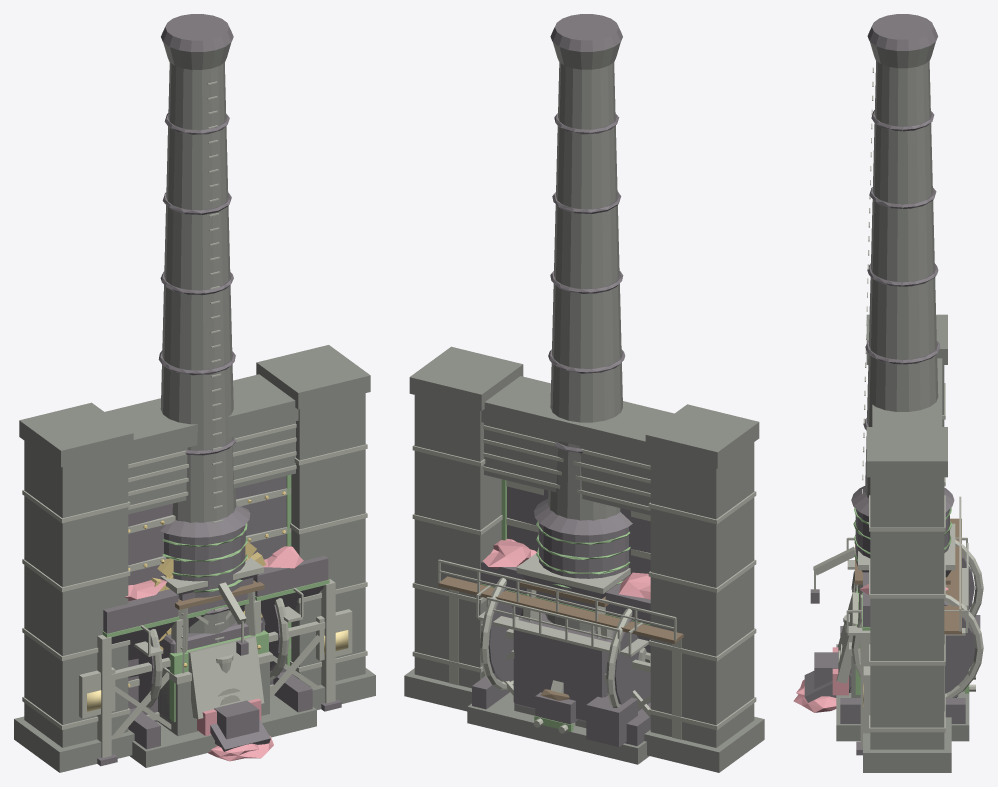
The model's file is InfernalF21Kit.fbx.
3 renders of one model, left to right at view 1: azimuth 30°, elevation 25°; view 2: azimuth 150°, elevation 25°; view 3: azimuth 270°, elevation 25°, orthographic. The views are drawn at different scales.
Visible parts, largest first — view 1: FurnaceGateDoors__STONE, FlueStack__STONE, FurnaceGateDoors__TRIM, OreCrusherJaw__TRIM, CoalHopper__METAL, CoalHopper__TRIM, FlueStack__METAL, OreCrusherJaw__METAL, WaterTower__METAL, FurnaceGateDoors__METAL, OreCrusherJaw__STONE, WaterTower__TRIM (+8 smaller); view 2: FurnaceGateDoors__STONE, FlueStack__STONE, OreCrusherJaw__METAL, FurnaceGateDoors__TRIM, OreCrusherJaw__TRIM, WaterTower__METAL, CoalHopper__TRIM, FlueStack__METAL, OreCrusherJaw__STONE, FurnaceGateDoors__METAL, CoalHopper__WOOD, CoalHopper__METAL (+3 smaller); view 3: FurnaceGateDoors__STONE, FlueStack__STONE, FlueStack__METAL, OreCrusherJaw__TRIM, OreCrusherJaw__METAL, FurnaceGateDoors__TRIM, WaterTower__METAL, CoalHopper__TRIM, OreCrusherJaw__STONE, CoalHopper__WOOD, OreCrusherJaw__ALT, WaterTower__TRIM (+2 smaller).
Boxes of the visible parts, bbox=[...] form: FurnaceGateDoors__STONE: bbox=[14, 345, 375, 772]; FlueStack__STONE: bbox=[158, 43, 269, 736]; FurnaceGateDoors__TRIM: bbox=[22, 423, 367, 729]; OreCrusherJaw__TRIM: bbox=[134, 557, 303, 719]; CoalHopper__METAL: bbox=[97, 556, 341, 766]; CoalHopper__TRIM: bbox=[97, 579, 335, 757]; FlueStack__METAL: bbox=[158, 14, 259, 745]; OreCrusherJaw__METAL: bbox=[128, 574, 312, 751]; WaterTower__METAL: bbox=[160, 505, 250, 655]; FurnaceGateDoors__METAL: bbox=[128, 476, 286, 722]; OreCrusherJaw__STONE: bbox=[130, 695, 316, 767]; WaterTower__TRIM: bbox=[178, 582, 255, 735]; FurnaceGateDoors__STONE: bbox=[404, 346, 764, 772]; FlueStack__STONE: bbox=[514, 42, 622, 727]; OreCrusherJaw__METAL: bbox=[472, 574, 650, 746]; FurnaceGateDoors__TRIM: bbox=[412, 425, 756, 730]; OreCrusherJaw__TRIM: bbox=[476, 553, 650, 707]; WaterTower__METAL: bbox=[534, 499, 632, 592]; CoalHopper__TRIM: bbox=[438, 559, 681, 739]; FlueStack__METAL: bbox=[548, 14, 625, 453]; OreCrusherJaw__STONE: bbox=[467, 692, 649, 764]; FurnaceGateDoors__METAL: bbox=[507, 486, 650, 575]; CoalHopper__WOOD: bbox=[438, 576, 683, 643]; CoalHopper__METAL: bbox=[481, 561, 650, 652]; FurnaceGateDoors__STONE: bbox=[863, 314, 951, 772]; FlueStack__STONE: bbox=[851, 42, 954, 697]; FlueStack__METAL: bbox=[814, 14, 940, 697]; OreCrusherJaw__TRIM: bbox=[836, 523, 983, 697]; OreCrusherJaw__METAL: bbox=[804, 555, 980, 723]; FurnaceGateDoors__TRIM: bbox=[863, 383, 945, 732]; WaterTower__METAL: bbox=[810, 486, 954, 603]; CoalHopper__TRIM: bbox=[860, 496, 961, 747]; OreCrusherJaw__STONE: bbox=[836, 644, 969, 741]; CoalHopper__WOOD: bbox=[944, 518, 961, 634]; OreCrusherJaw__ALT: bbox=[793, 647, 848, 712]; WaterTower__TRIM: bbox=[813, 546, 946, 622].
Size of the model in its own units: 48 by 101 by 25.82.
